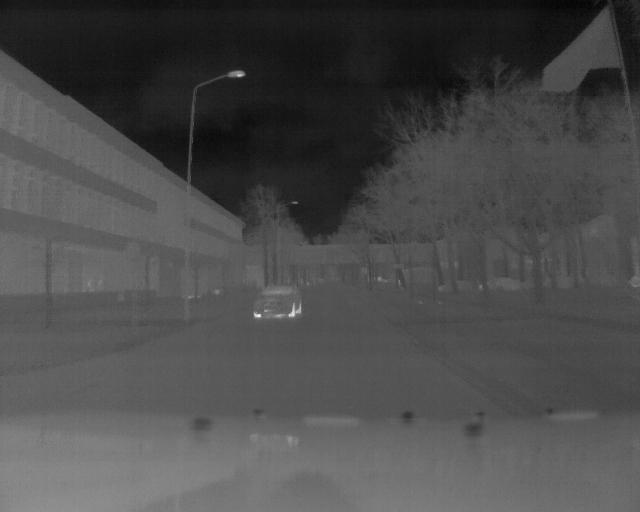car: (253, 285, 305, 322), (490, 273, 528, 293), (435, 278, 476, 293)
